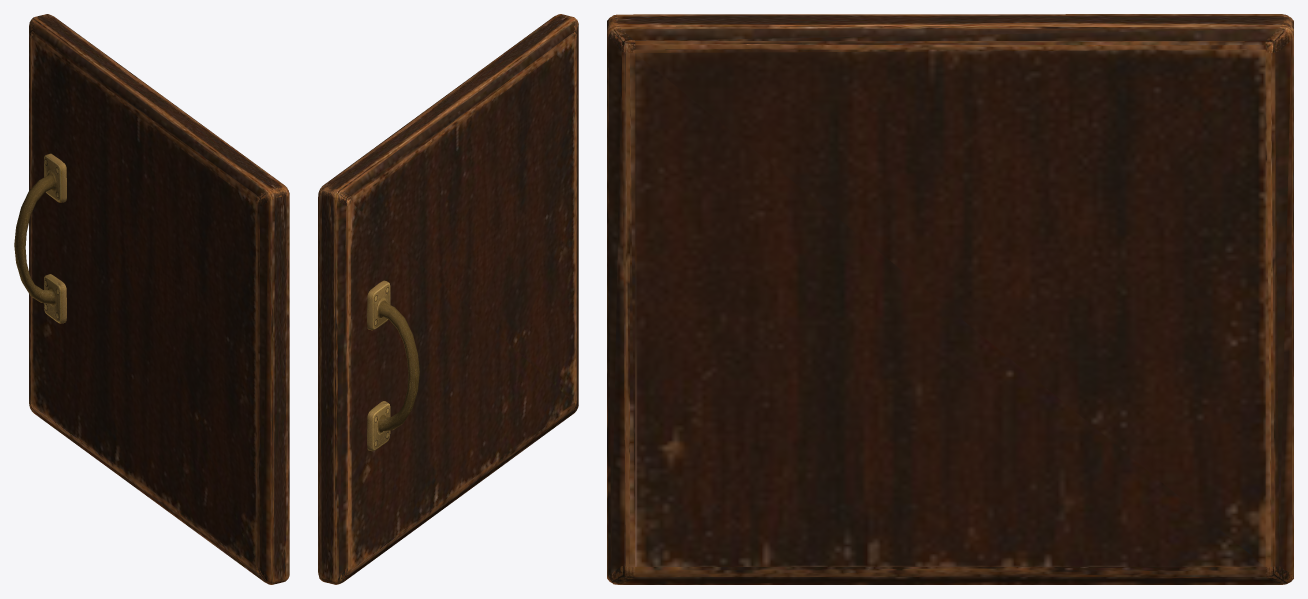
The model's file is stage4_lower_cabinet_door.fbx.
3 renders of one model, left to right at view 1: azimuth 30°, elevation 25°; view 2: azimuth 150°, elevation 25°; view 3: azimuth 270°, elevation 25°, orthographic. The views are drawn at different scales.
Parts seen in each view (by area): view 1: stage4_lower_cabinet_door; view 2: stage4_lower_cabinet_door; view 3: stage4_lower_cabinet_door.
Part boxes in pixels (<box>): stage4_lower_cabinet_door: <box>14,14,289,584</box>; stage4_lower_cabinet_door: <box>318,14,578,584</box>; stage4_lower_cabinet_door: <box>607,14,1293,584</box>.
Bounding box in the file's own units: 8.35 × 44.12 × 49.04.
